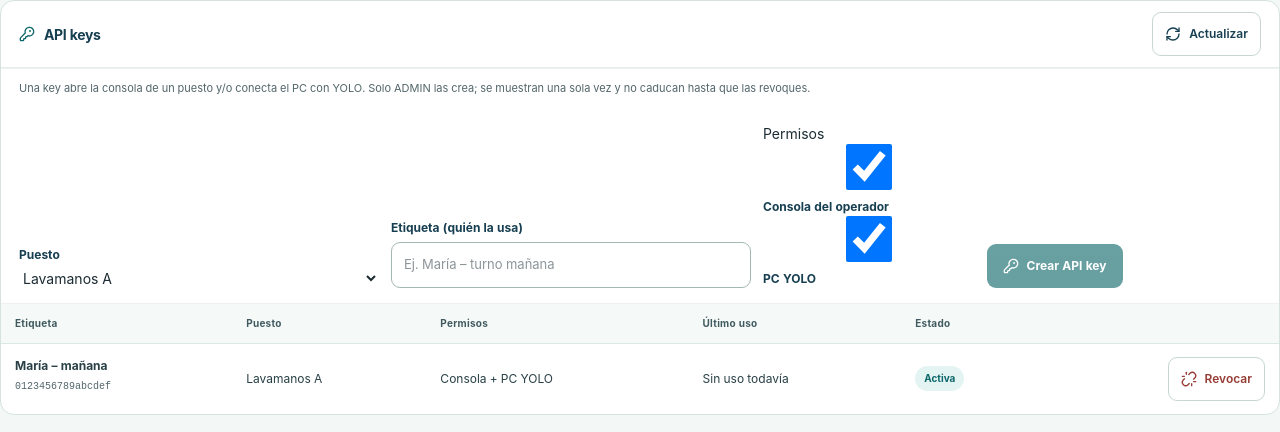
Test: AdminApiKeysPanel › requires at least one permission before creating
Expected: the text "María – mañana" is shown, top-left (15, 358), bottom-right (108, 372)
In the field labelled "Etiqueta (quién la usa)": (571, 264) top-left (391, 242), bottom-right (751, 288), type "Sin permisos"
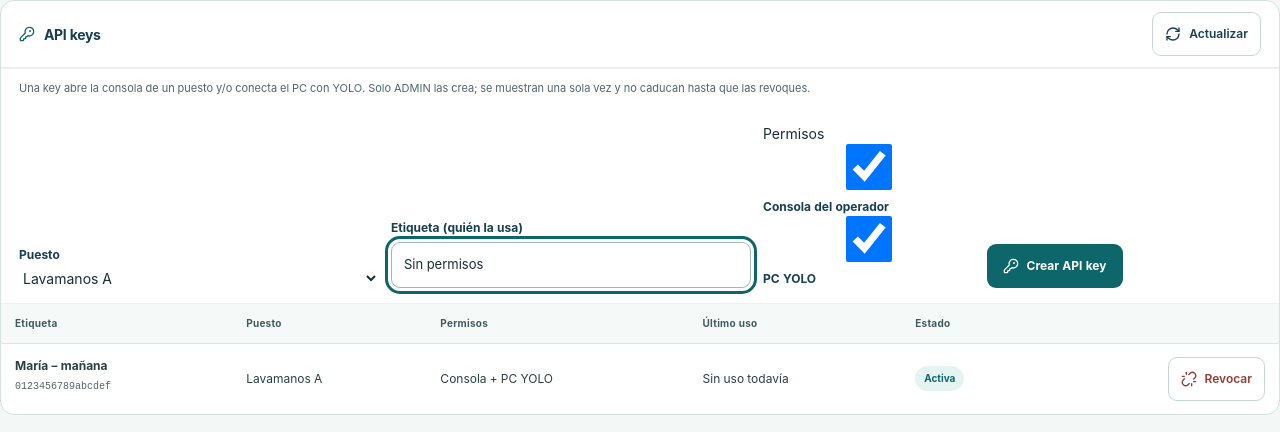
Click the checkbox labelled "Consola del operador": (869, 166) top-left (763, 144), bottom-right (974, 190)
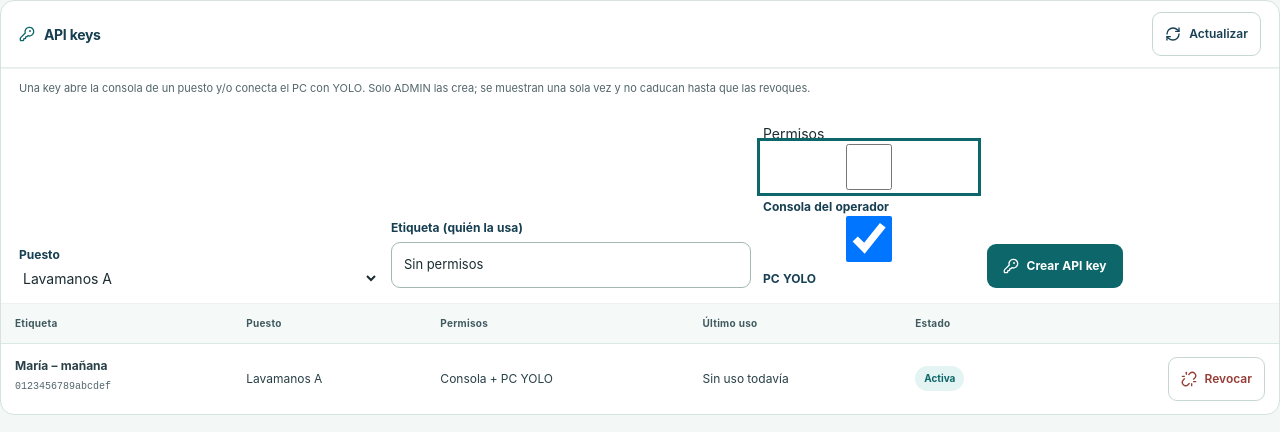
Click the checkbox labelled "PC YOLO": (869, 238) top-left (763, 216), bottom-right (974, 262)
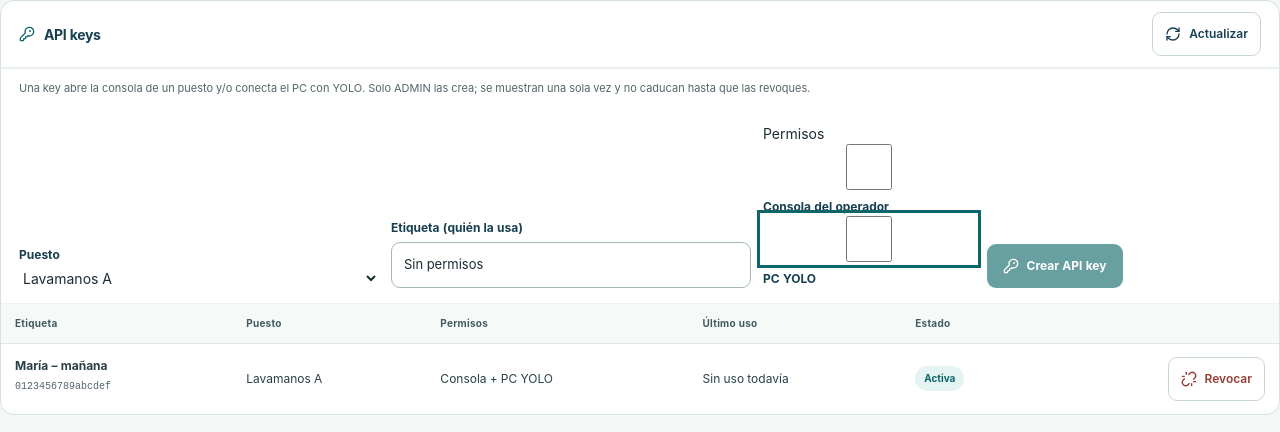
Now the button "Crear API key" is disabled, box top-left (986, 244), bottom-right (1122, 288)
